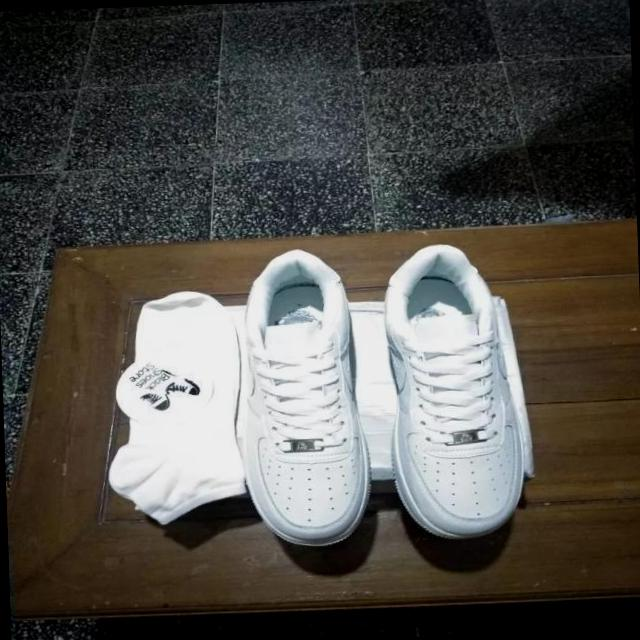nike_fake_airforce: (377, 242, 531, 544), (232, 246, 374, 552)
